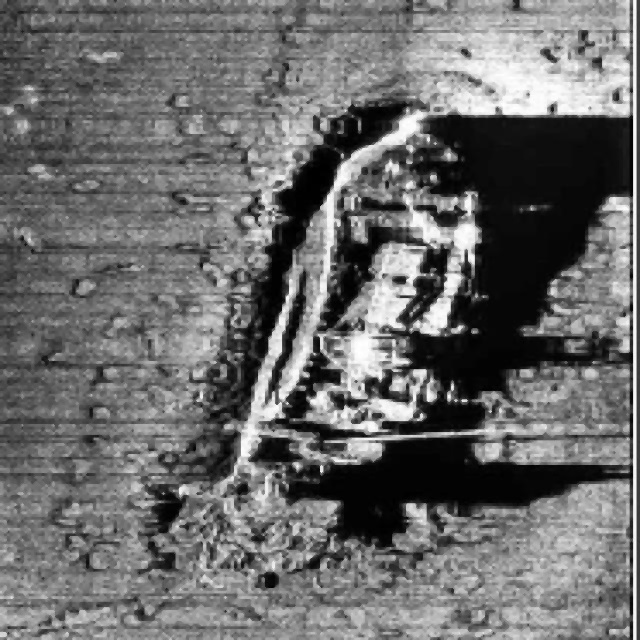Ship: (229, 96, 497, 512)
